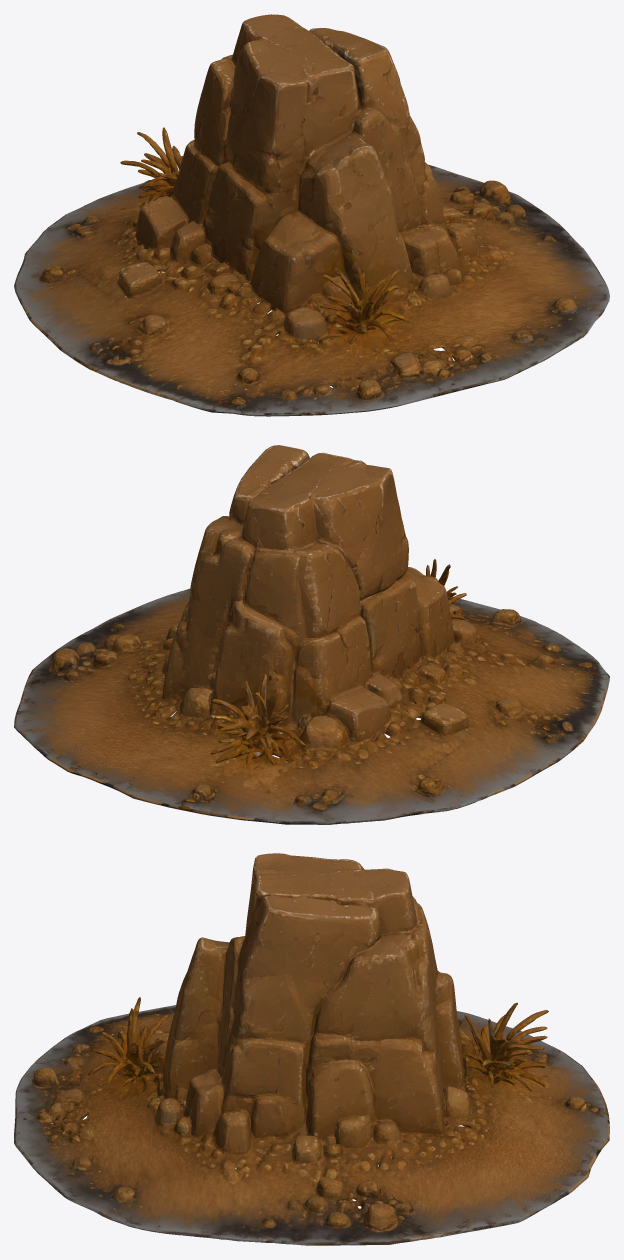
File: desert-big-rock-2.glb
3 views of the same model, one above another, from view 1: azimuth 30°, elevation 25°; view 2: azimuth 150°, elevation 25°; view 3: azimuth 270°, elevation 25° (orthographic). The views are drawn at different scales.
Parts seen in each view (by area): view 1: textured_mesh.obj; view 2: textured_mesh.obj; view 3: textured_mesh.obj.
Boxes of the visible parts, box(x1,y1,x2,y2) form: textured_mesh.obj: box(14, 14, 609, 416); textured_mesh.obj: box(14, 445, 609, 824); textured_mesh.obj: box(14, 853, 609, 1245).
Size of the model in its own units: 1.97 by 0.8989 by 1.99.
1 material, 1 textured.
